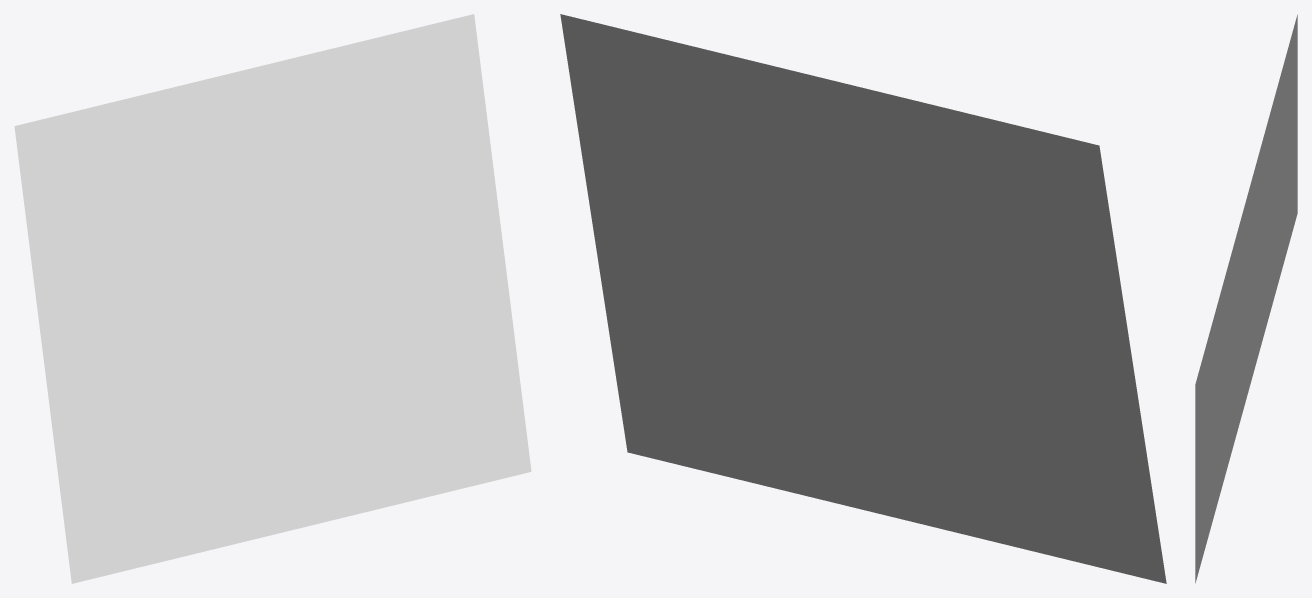
File: primary_126.glb
3 renders of one model, left to right at view 1: azimuth 30°, elevation 25°; view 2: azimuth 150°, elevation 25°; view 3: azimuth 270°, elevation 25°, orthographic. The views are drawn at different scales.
Visible parts, largest first — view 1: Object; view 2: Object; view 3: Object.
Part boxes in pixels (x1=…): Object: x1=14, y1=14, x2=531, y2=583; Object: x1=560, y1=14, x2=1166, y2=583; Object: x1=1195, y1=14, x2=1297, y2=583.
Bounding box in the file's own units: 1.67 × 1.44 × 0.3599.
Materials: 1 (1 with a texture image).
